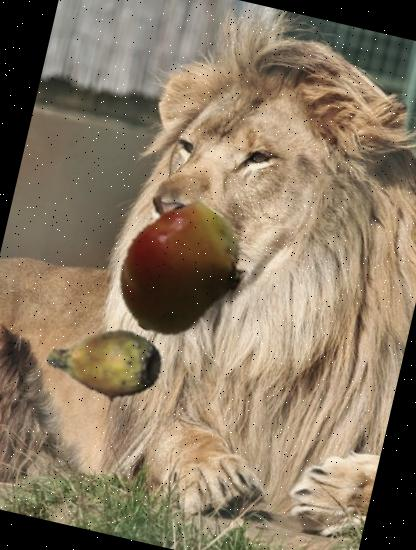Apple: (94, 184, 262, 352)
Cactus: (32, 294, 174, 435)
